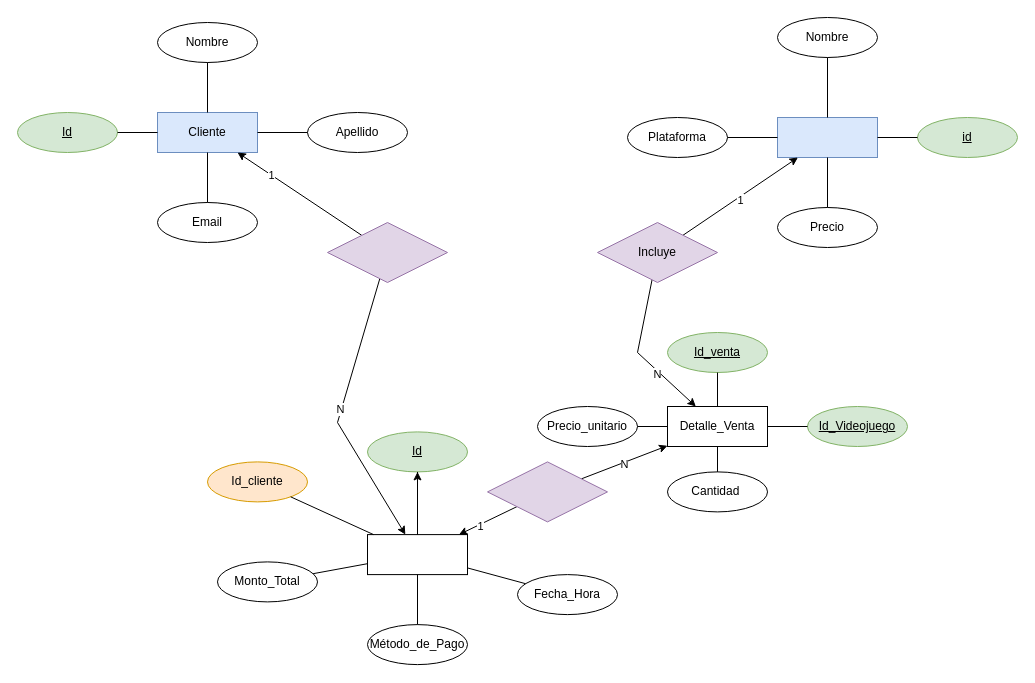
The diagram is 1035 pixels wide and 683 high, and some of its shapes have lost their labels. Here are the shapes that lost their labels. From the top down, the centre of each, then its label:
At point (827, 137): "Videojuego".
At point (387, 252): "Realiza".
At point (547, 491): "Tiene".
At point (417, 554): "Venta".
